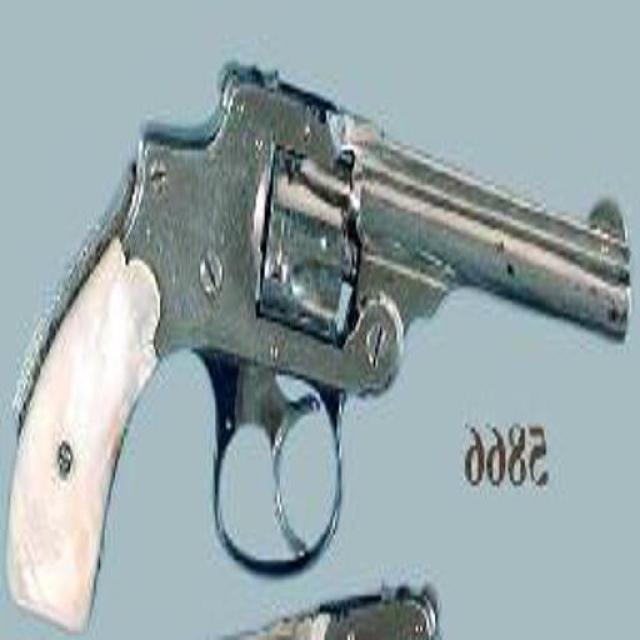pistol: (1, 52, 626, 621)
